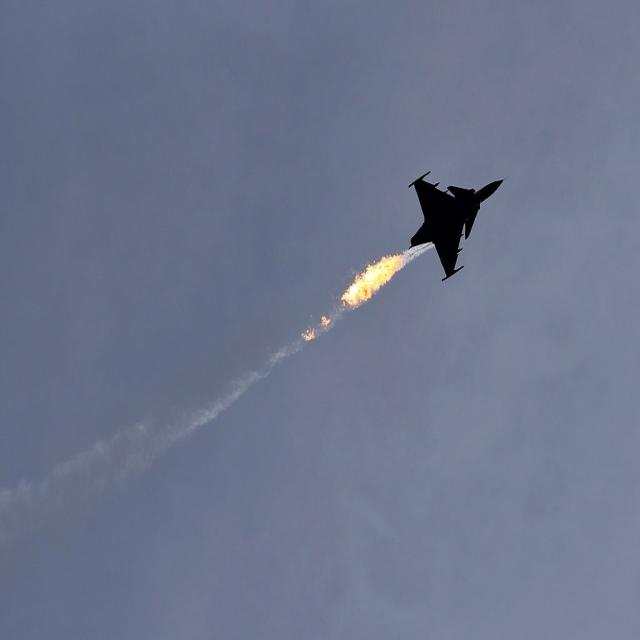MIL_Plane: (408, 170, 509, 282)
